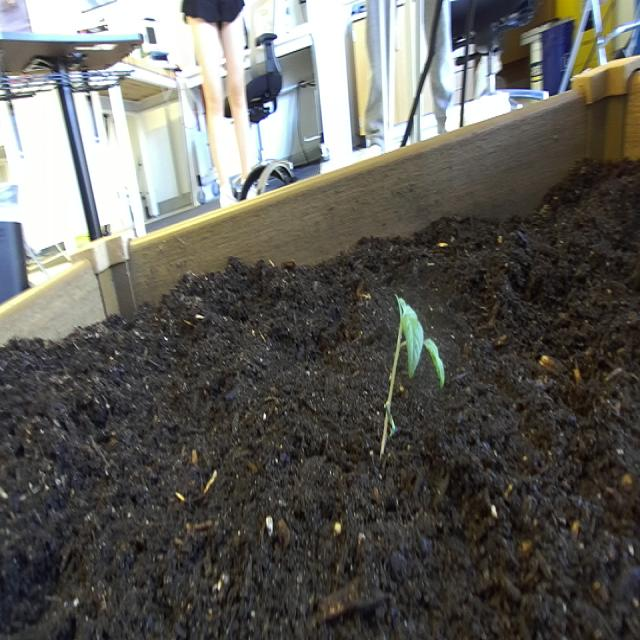Healthy: (367, 276, 452, 474)
